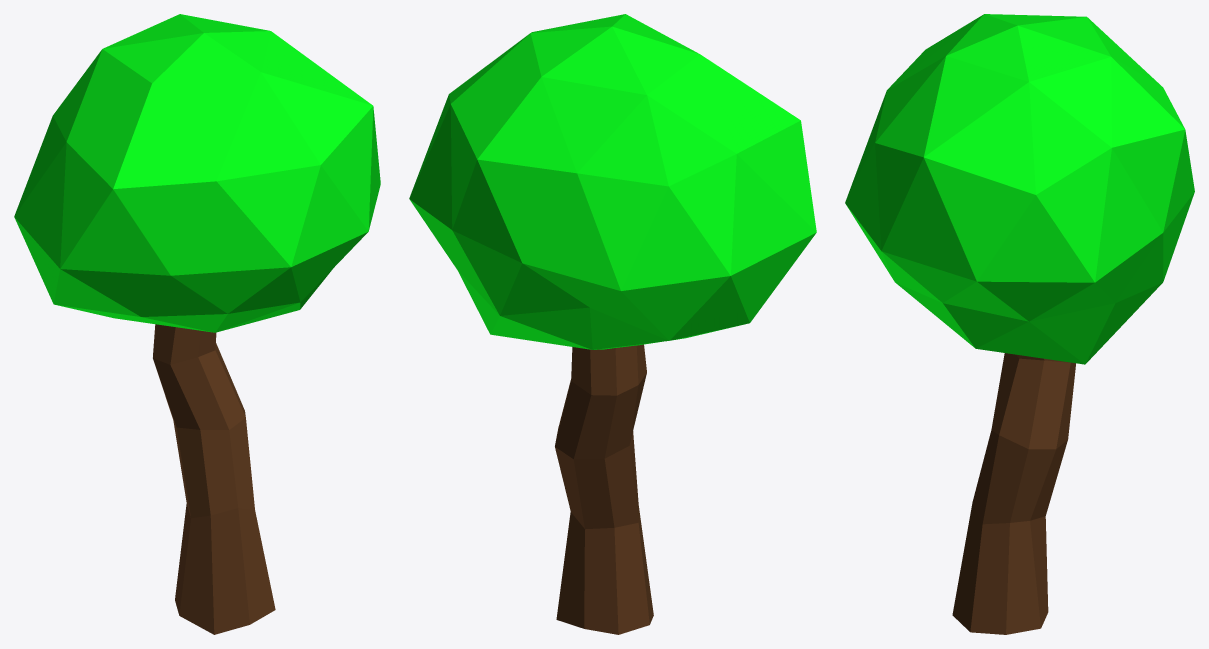
File: Tree1.fbx
3 renders of one model, left to right at view 1: azimuth 30°, elevation 25°; view 2: azimuth 150°, elevation 25°; view 3: azimuth 270°, elevation 25°, orthographic. The views are drawn at different scales.
Visible parts, largest first — view 1: Cube; view 2: Cube; view 3: Cube.
Part boxes in pixels (x1,y1,x2,y2): Cube: [14, 14, 380, 634]; Cube: [409, 14, 816, 634]; Cube: [845, 14, 1194, 634].
Size of the model in its own units: 768 by 1301 by 698.
